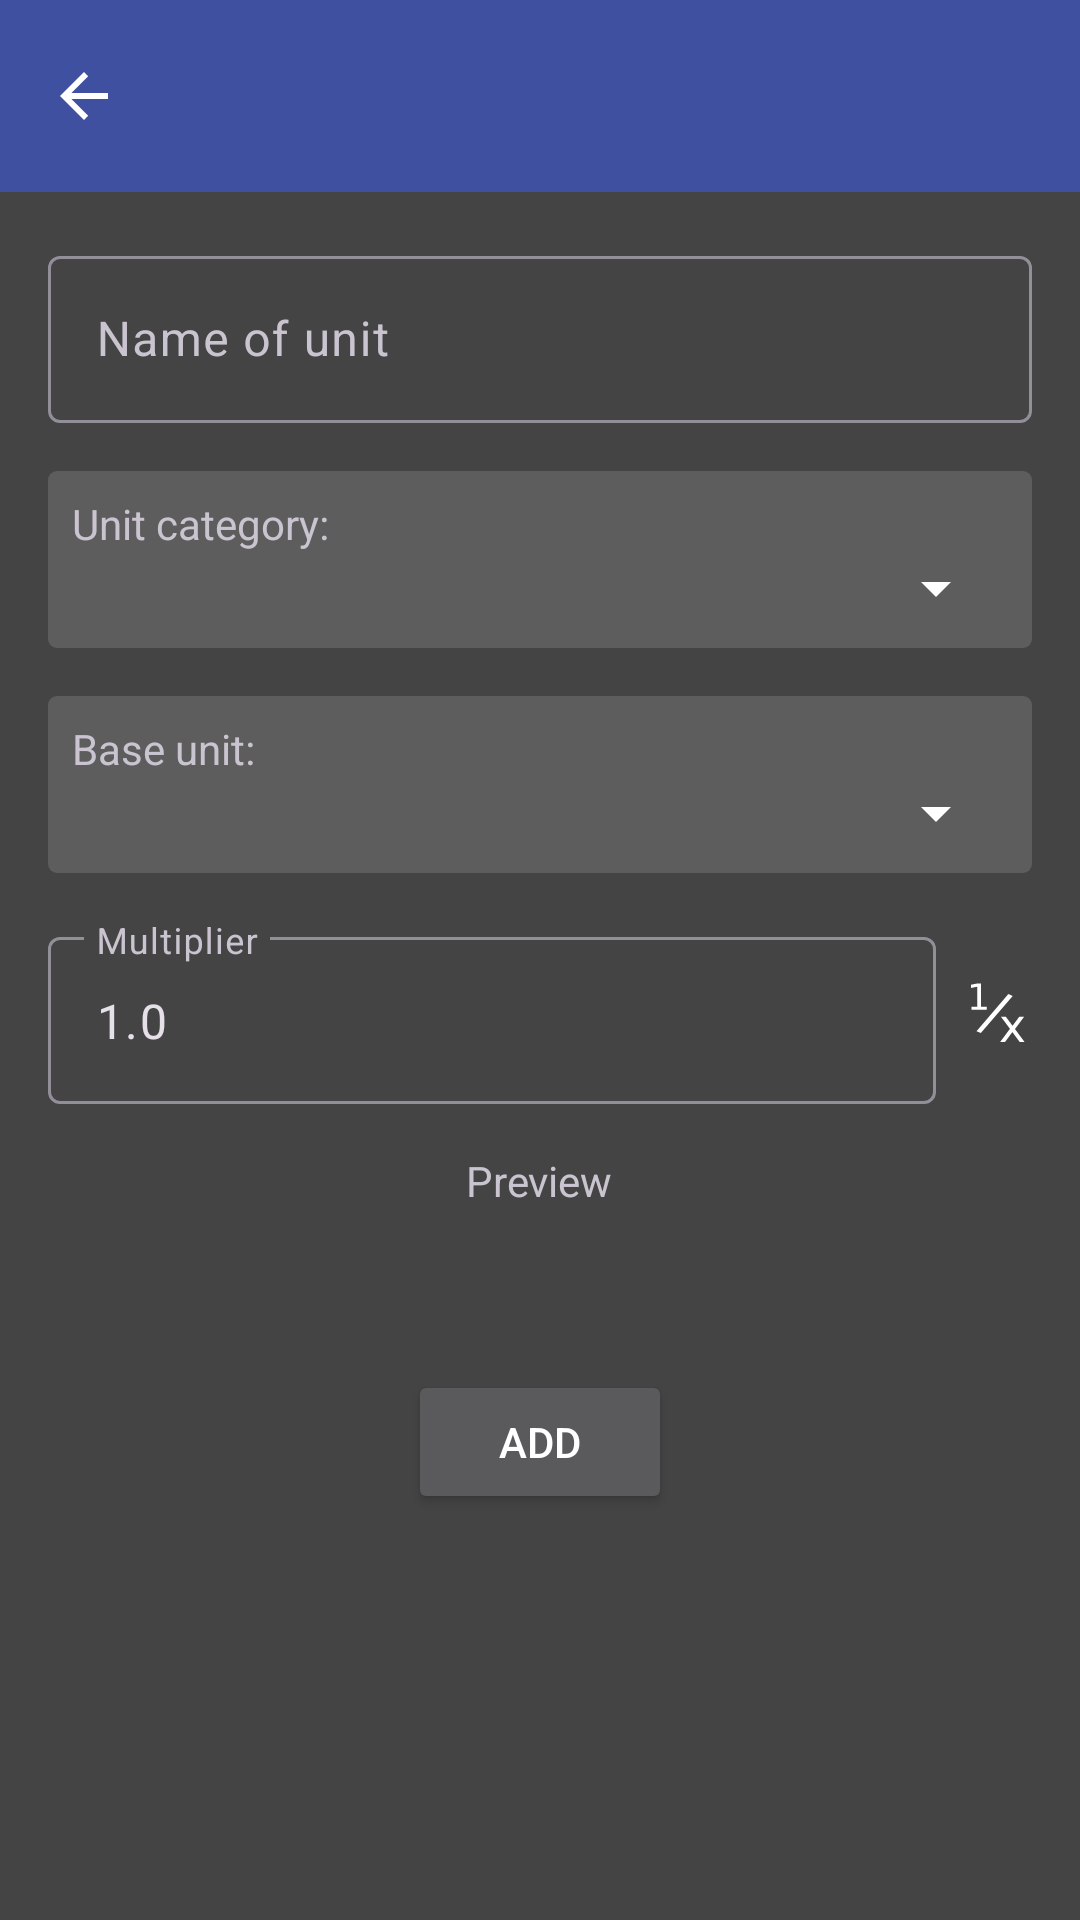

Where to tap for icons on this 1080px×1920px app screen, as [x,y]:
Inverse: [998,1012]
